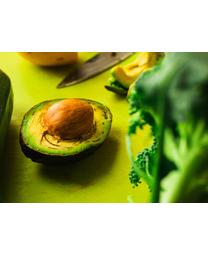avocado: (19, 97, 113, 164)
